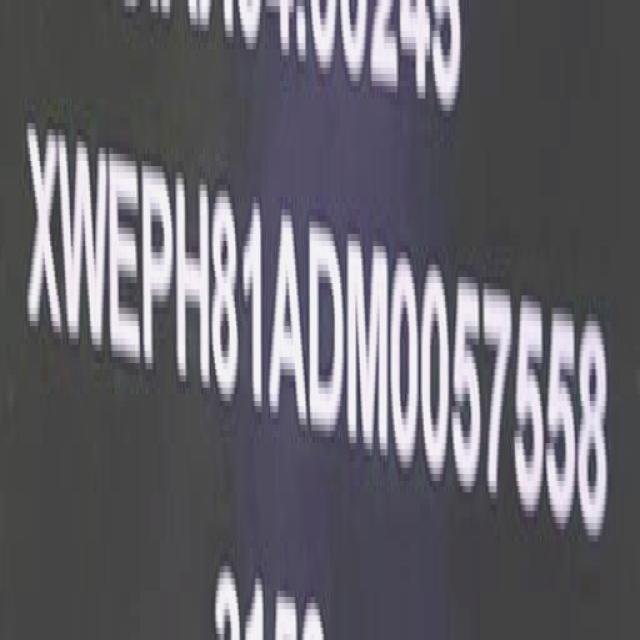0: (391, 243, 423, 475), (421, 256, 452, 488)
1: (241, 188, 264, 416)
5: (452, 265, 484, 499), (514, 286, 546, 519), (548, 303, 579, 530)
7: (483, 275, 512, 508)
8: (580, 313, 610, 546), (212, 181, 241, 406)
A: (267, 200, 307, 429)
D: (308, 210, 348, 448)
E: (108, 135, 144, 381)
H: (174, 162, 214, 394)
M: (348, 224, 390, 466)
P: (141, 158, 175, 385)
W: (59, 120, 108, 370)
X: (25, 109, 61, 354)
